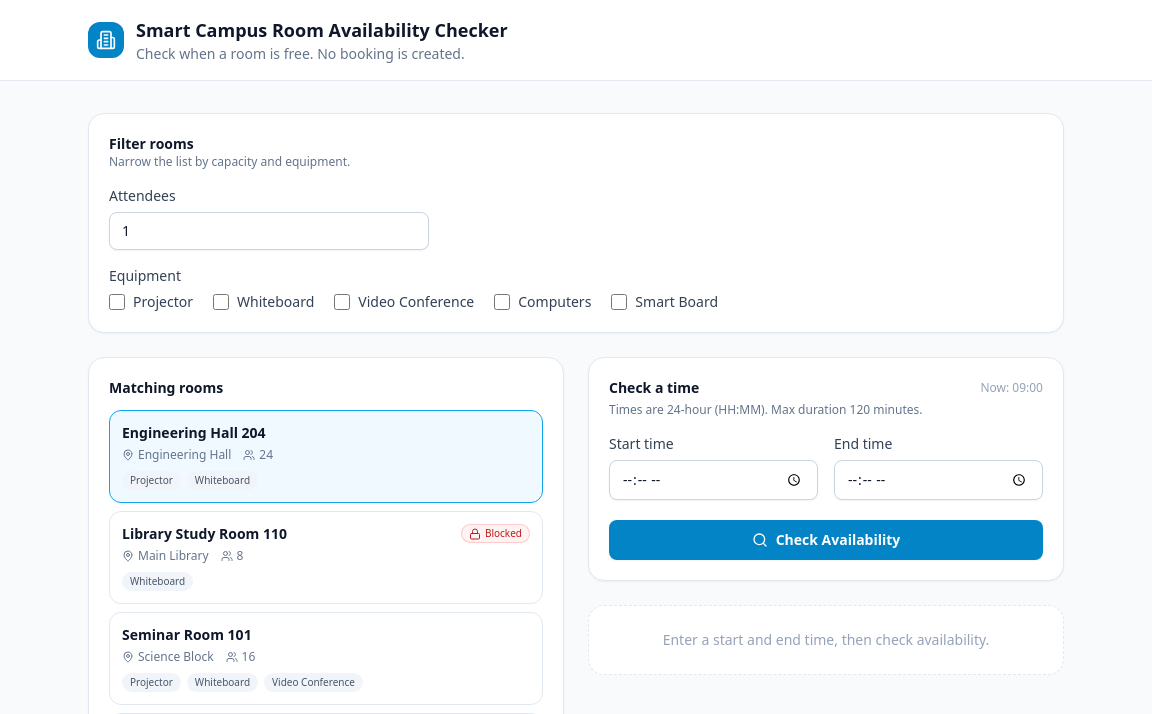
Test: UI integration (fixed clock 09:00) › U1 F5: switching room clears the old result and the next check uses the new room's bookings
Click the button "Seminar Room 101".
click(187, 634)  # box 109,612 -> 543,705
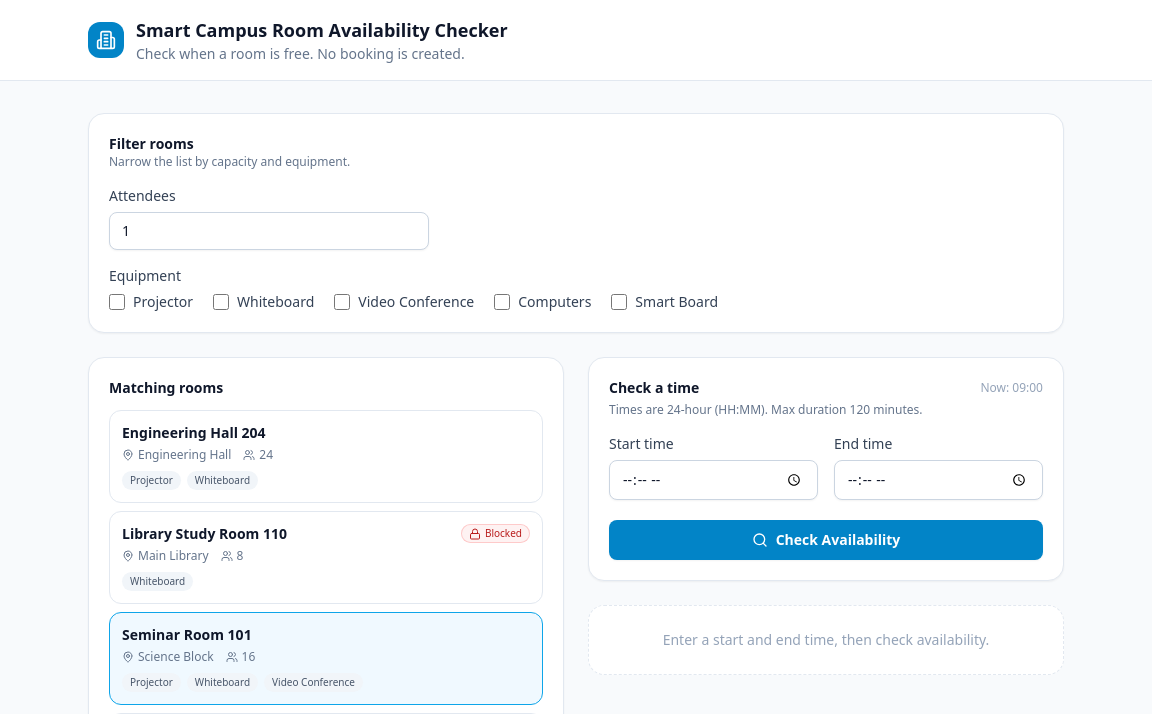
Type "10:30" into the time field labelled "Start time".
click(714, 480); type("10:30")  # box 609,460 -> 818,500
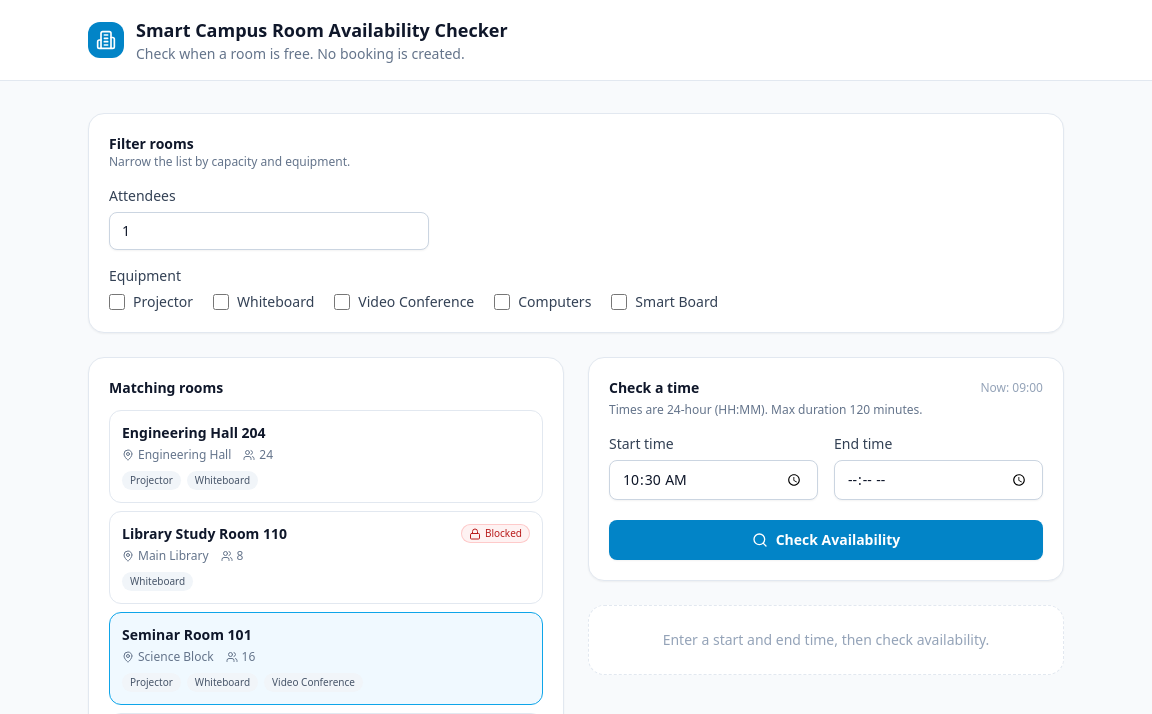
Type "11:30" into the time field labelled "End time".
click(938, 480); type("11:30")  # box 834,460 -> 1043,500
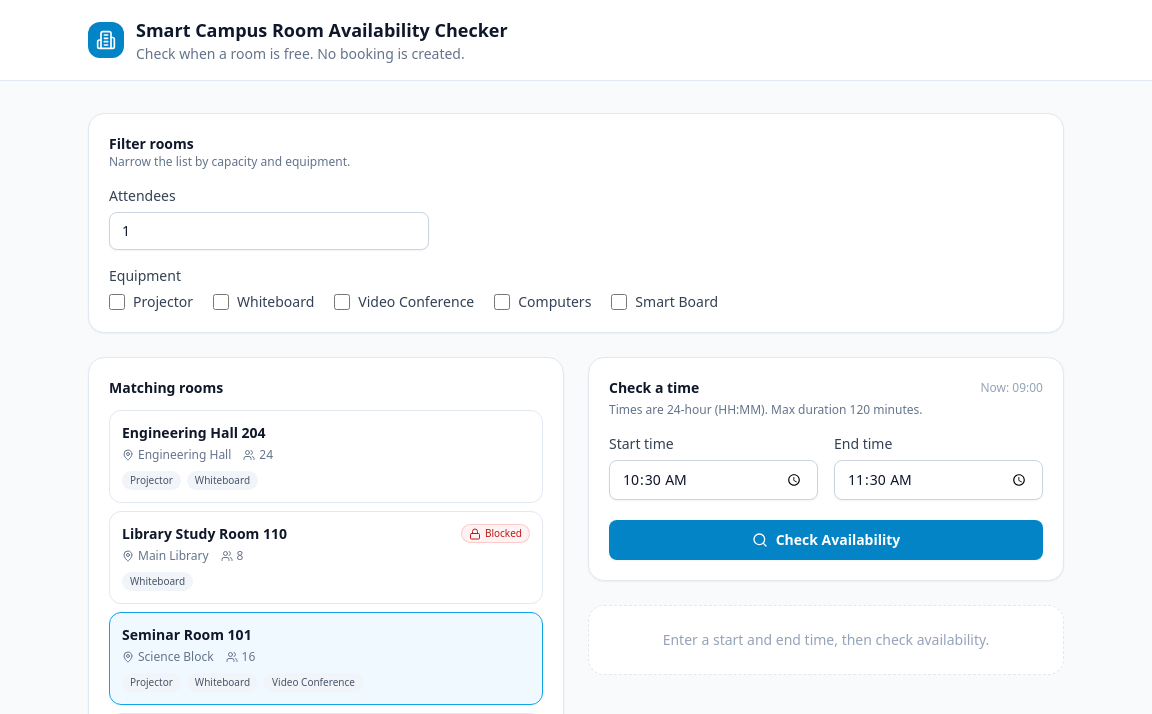
Click the button "Check Availability".
click(826, 540)  # box 609,520 -> 1043,560
(page scrolled)
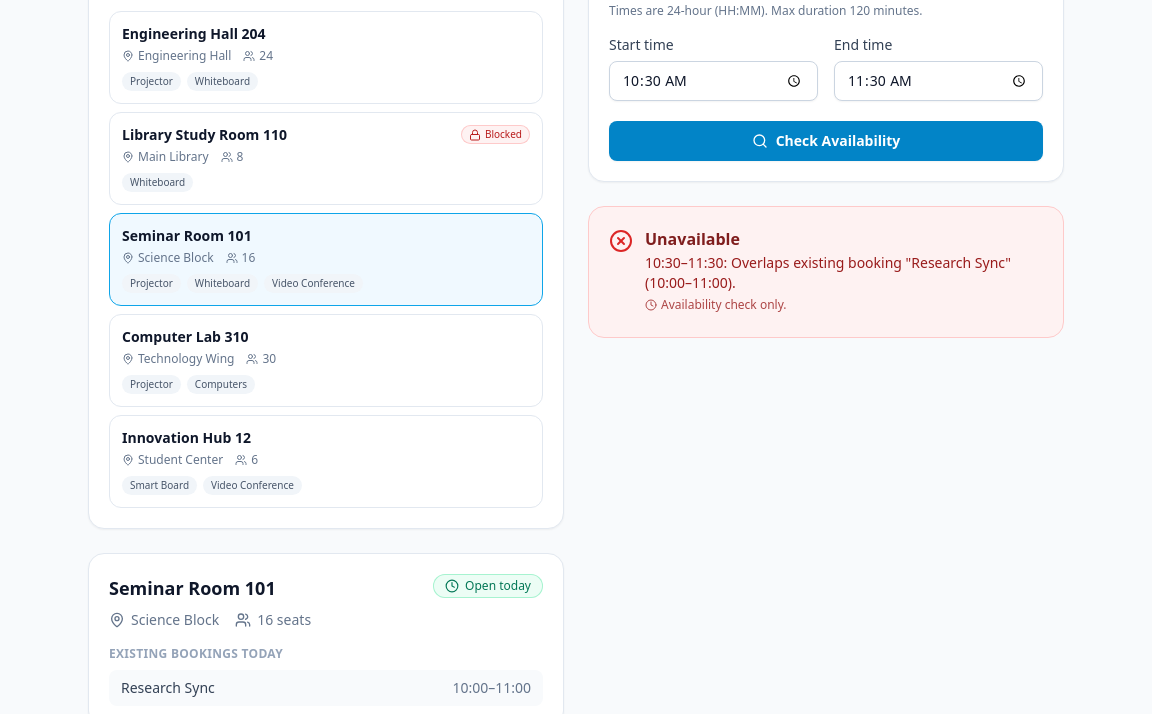
Expected: the message shows "Research Sync", 645,253 -> 1011,292
Click the button "Computer Lab 310 Technology Wing 30 Projector Computers".
click(185, 336)  # box 109,314 -> 543,407
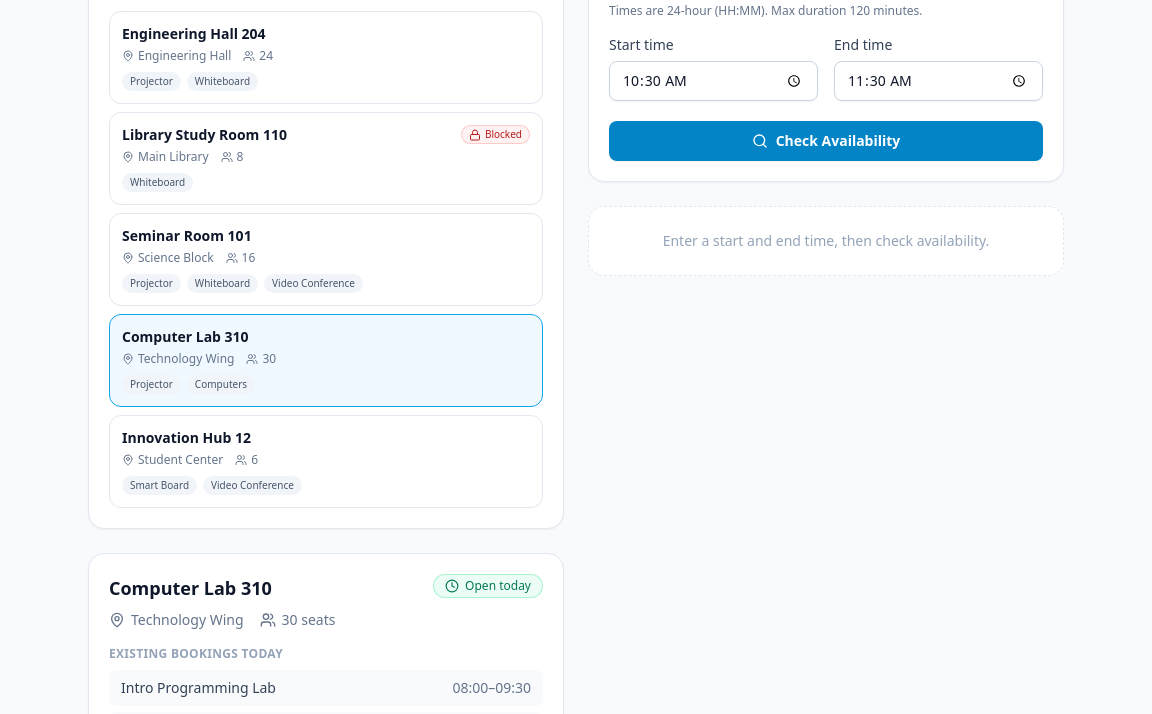
Expected: the text "Enter a start and end time, then check availability." is shown, 588,206 -> 1064,276
Click the button "Check Availability".
click(826, 141)  # box 609,121 -> 1043,161
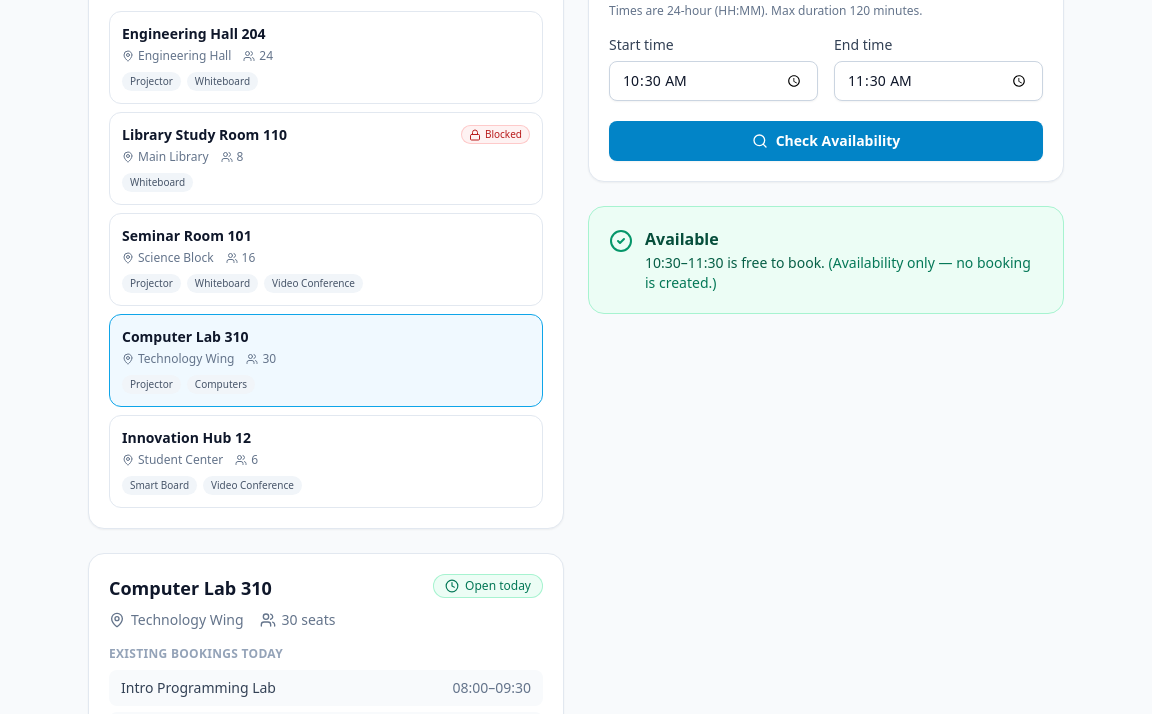
Expected: the message shows "Available", 645,228 -> 719,250
